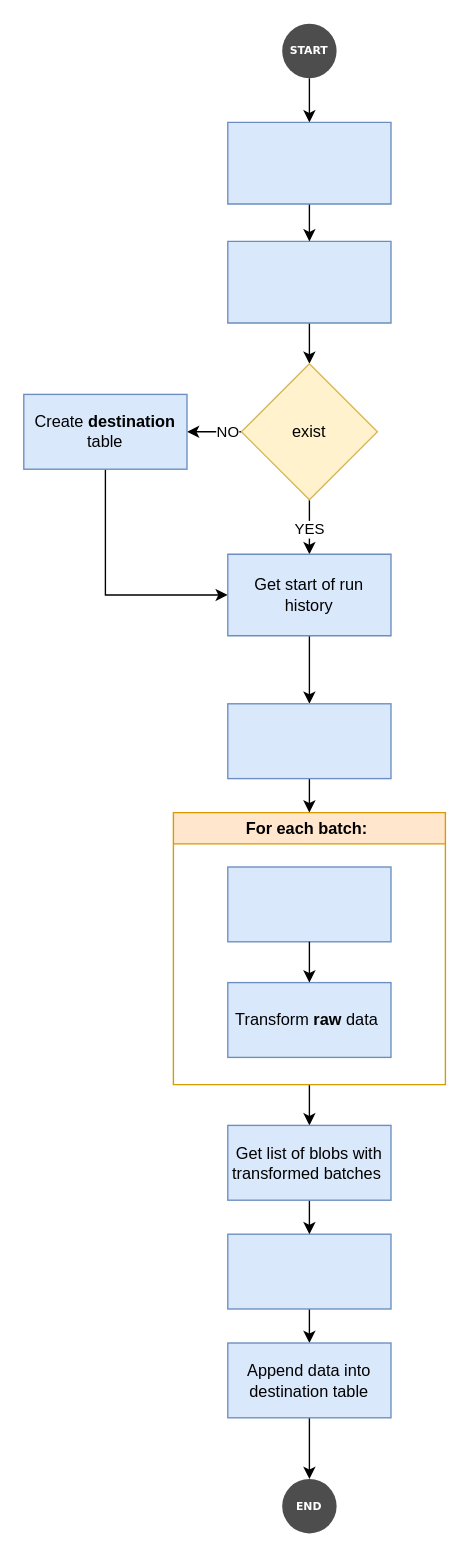
The diagram is 469 pixels wide and 1556 high, and some of its shapes have lost their labels. Each missing label, with the centre of its shape:
"Check if destination table exist" goes at [308,281].
"Get list of batches" goes at [308,740].
"Get run config for subject" goes at [308,162].
"Ingest raw data from source" goes at [308,904].
"Merge transformed data" goes at [308,1271].
